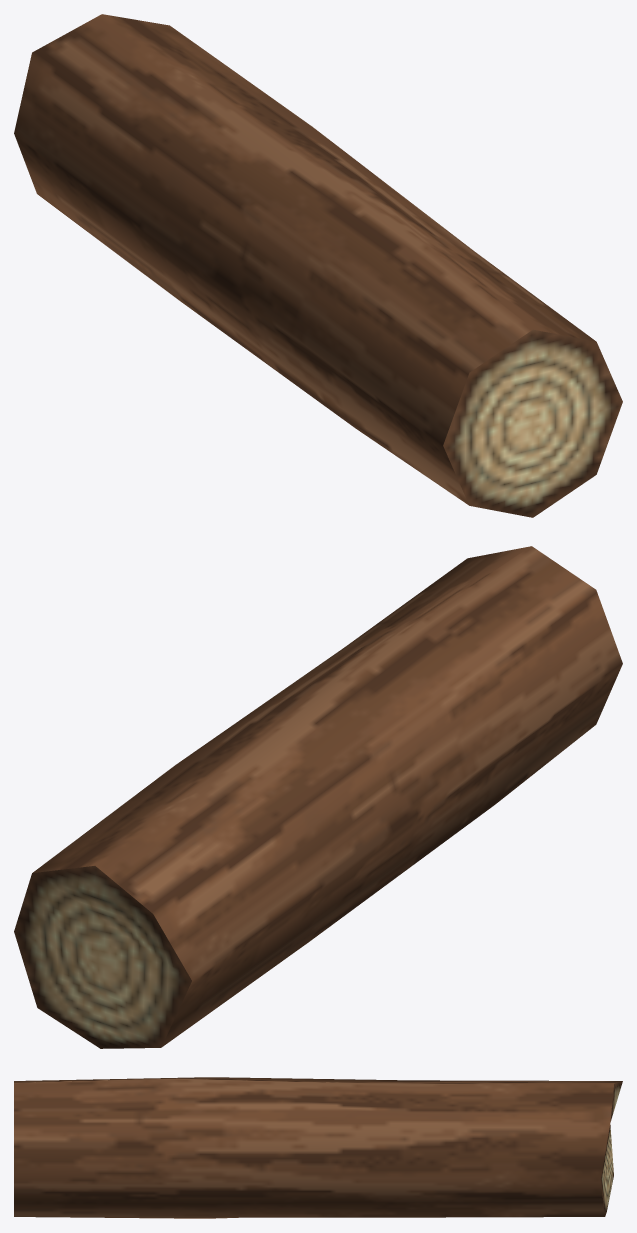
Rendered from longlog.fbx.
The picture shows the model from 3 angles, top to bottom: view 1: azimuth 30°, elevation 25°; view 2: azimuth 150°, elevation 25°; view 3: azimuth 270°, elevation 25°; orthographic projection. The views are drawn at different scales.
Visible parts, largest first — view 1: Log; view 2: Log; view 3: Log.
Boxes of the visible parts, x1,y1,x2,y2 form: Log: [14, 14, 622, 517]; Log: [14, 546, 622, 1048]; Log: [14, 1077, 622, 1218].
Bounding box in the file's own units: 0.3506 × 0.3498 × 1.4.
